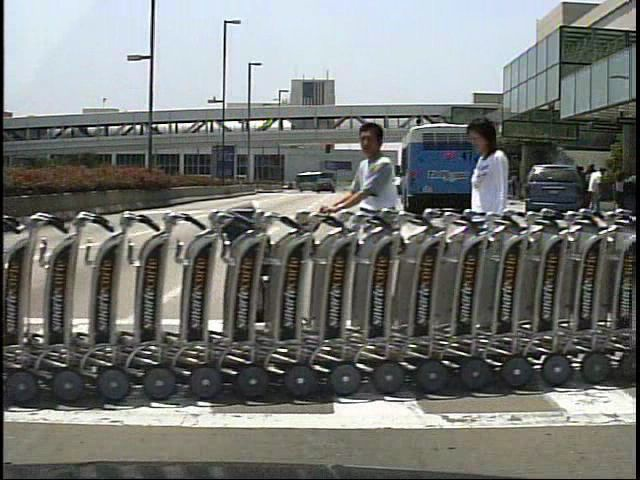person: (320, 118, 419, 363), (463, 115, 523, 328), (588, 165, 608, 215), (583, 163, 600, 215)
